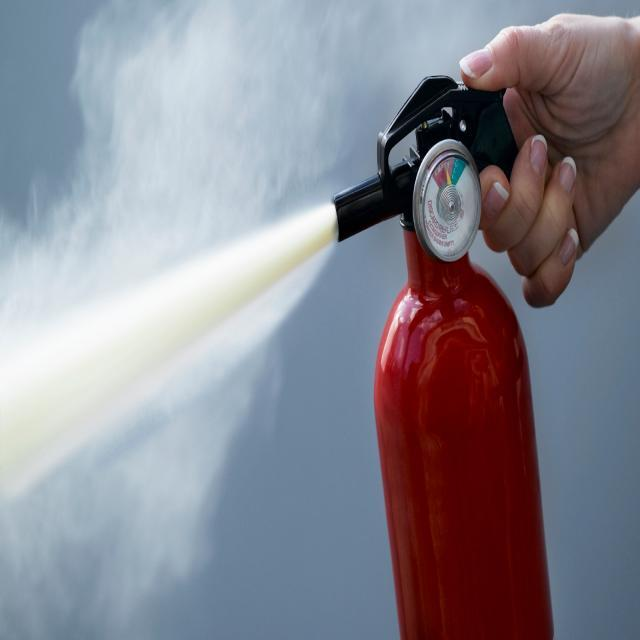pressure gauge: (413, 140, 479, 261)
